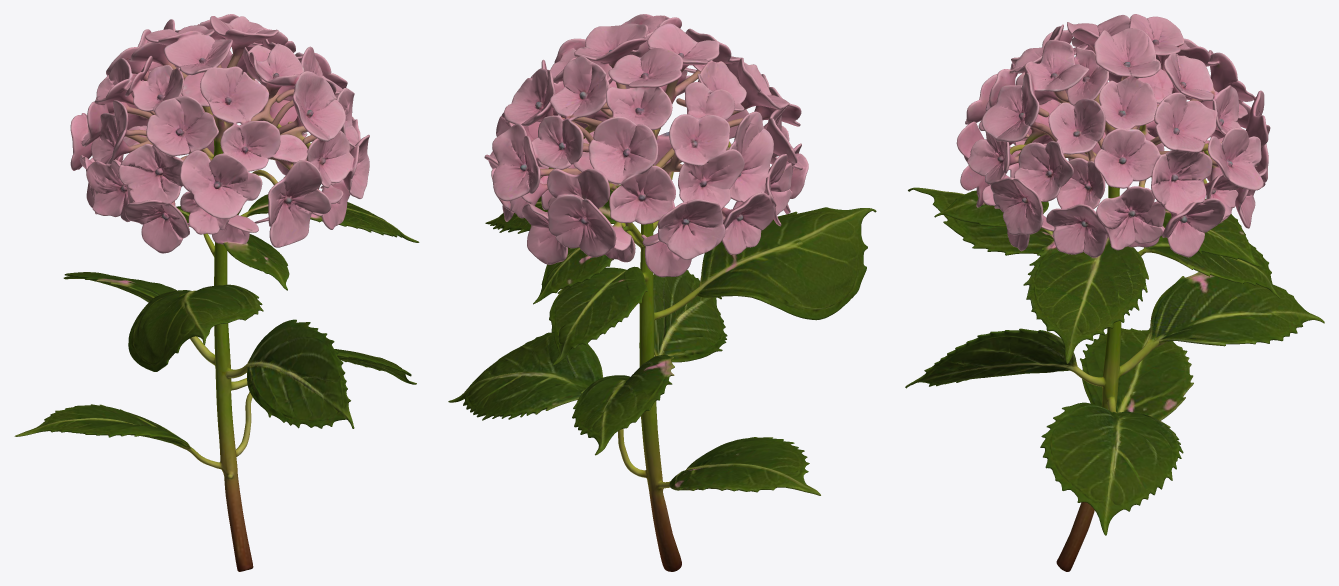
The model's file is pink hydrangea 2.glb.
3 views of the same model, side by side, from view 1: azimuth 30°, elevation 25°; view 2: azimuth 150°, elevation 25°; view 3: azimuth 270°, elevation 25° (orthographic). The views are drawn at different scales.
Parts seen in each view (by area): view 1: tripo_node_5a22b1a5-add5-495a-acf8-2256b9ae8bf5; view 2: tripo_node_5a22b1a5-add5-495a-acf8-2256b9ae8bf5; view 3: tripo_node_5a22b1a5-add5-495a-acf8-2256b9ae8bf5.
Part boxes in pixels (<box>): tripo_node_5a22b1a5-add5-495a-acf8-2256b9ae8bf5: <box>14,14,419,571</box>; tripo_node_5a22b1a5-add5-495a-acf8-2256b9ae8bf5: <box>448,14,876,571</box>; tripo_node_5a22b1a5-add5-495a-acf8-2256b9ae8bf5: <box>905,14,1324,571</box>.
Size of the model in its own units: 0.7332 by 0.9801 by 0.687.
Materials: 1 (1 with a texture image).
